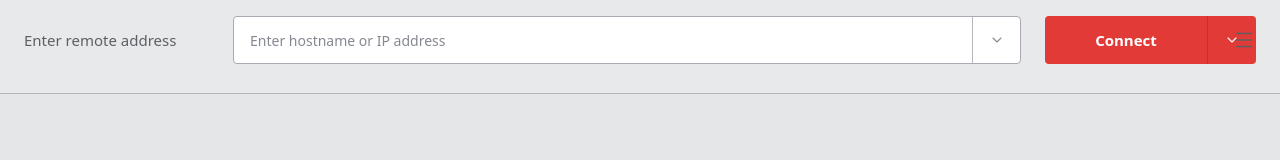
Scenario: ConnectionBar › does not treat a device id as an address
Type "842 391 552" into the field labelled "Enter remote address". click: (603, 40)
box: x1=234 y1=17 x2=972 y2=63
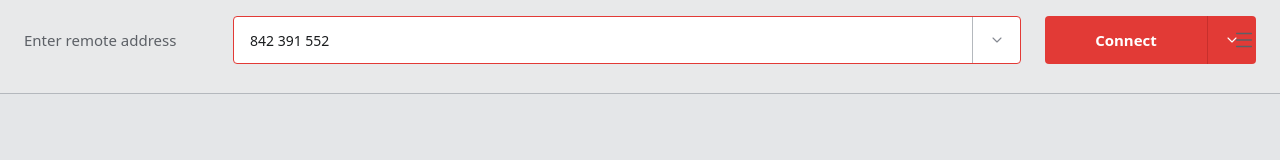
Click the button "Connect". click: (1126, 40)
box: x1=1045 y1=16 x2=1207 y2=64
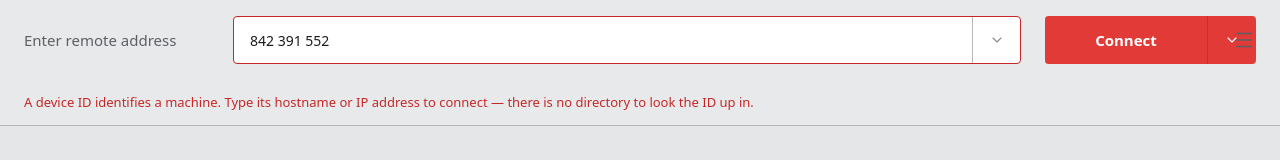
Expected: the text "no directory" is shown, x1=24 y1=93 x2=754 y2=111
